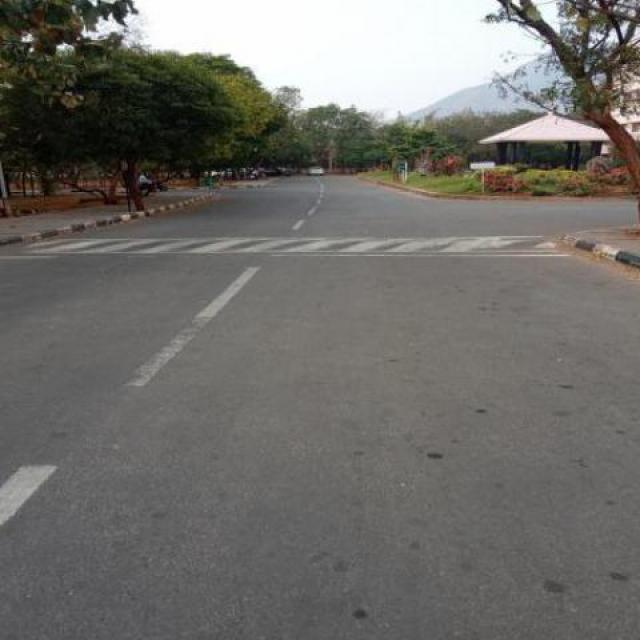Speed Bump: (37, 235, 556, 258)
